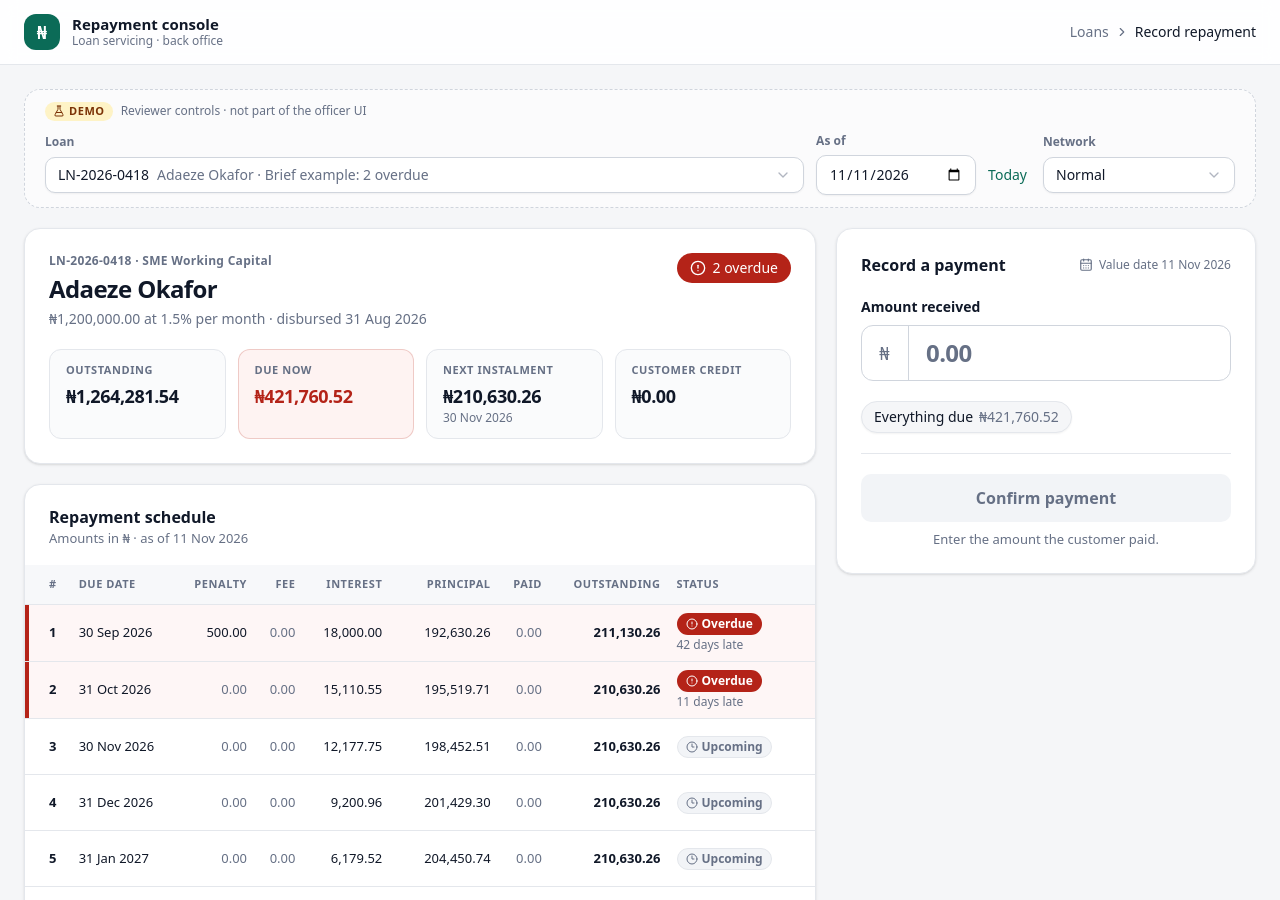
Confirm button › fills the amount from a quick-fill chip
The image size is (1280, 900).
Expected: the heading "Adaeze Okafor" is shown, left=49, top=272, right=217, bottom=305
Step 1. Click the button "Everything due ₦421,760.52" → (966, 417), box left=861, top=401, right=1072, bottom=433
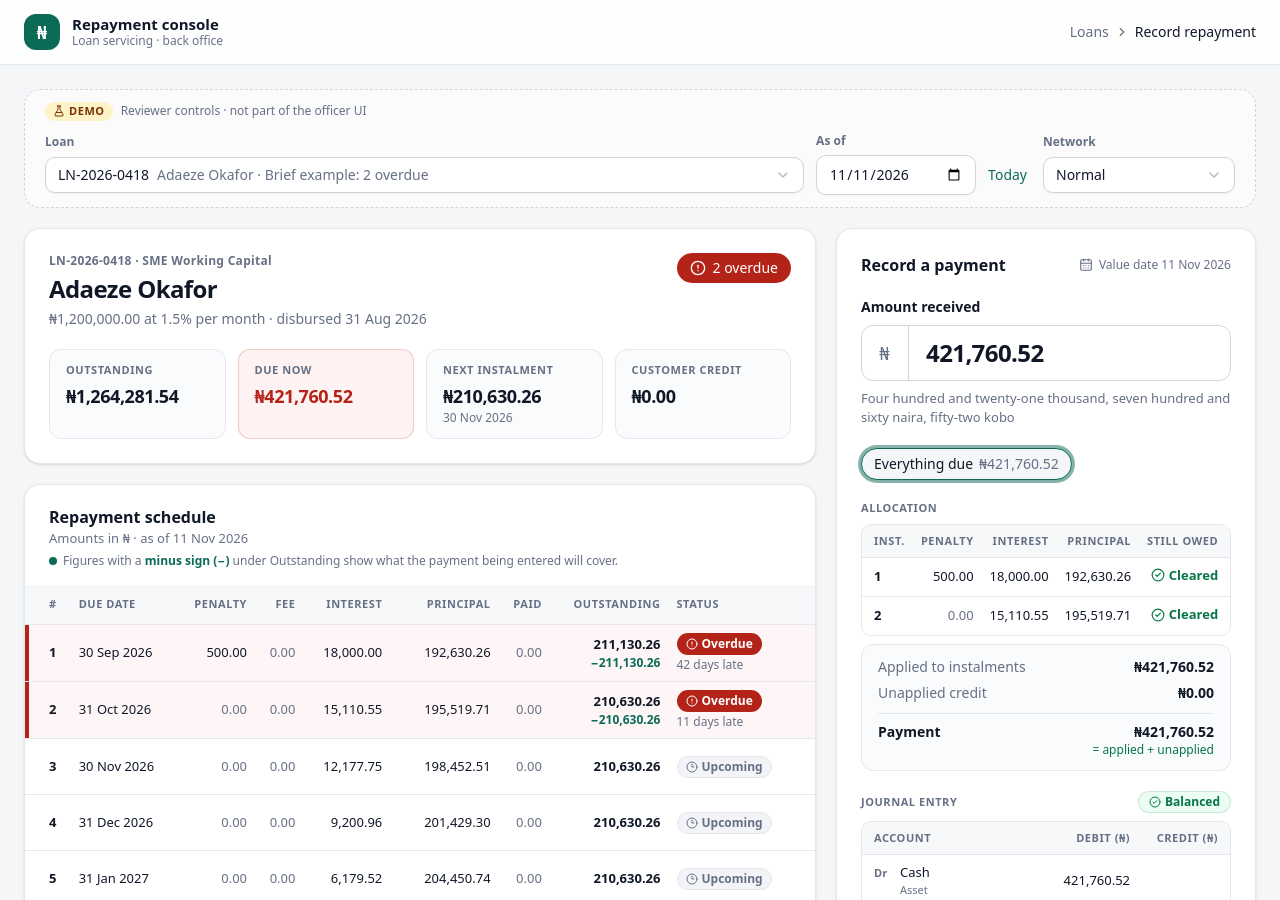
Result: the field labelled "Amount received" holds "421,760.52" at left=861, top=325, right=1231, bottom=381
Result: the text "₦0.00" in the row of "Unapplied credit" is shown at left=1178, top=683, right=1214, bottom=702
